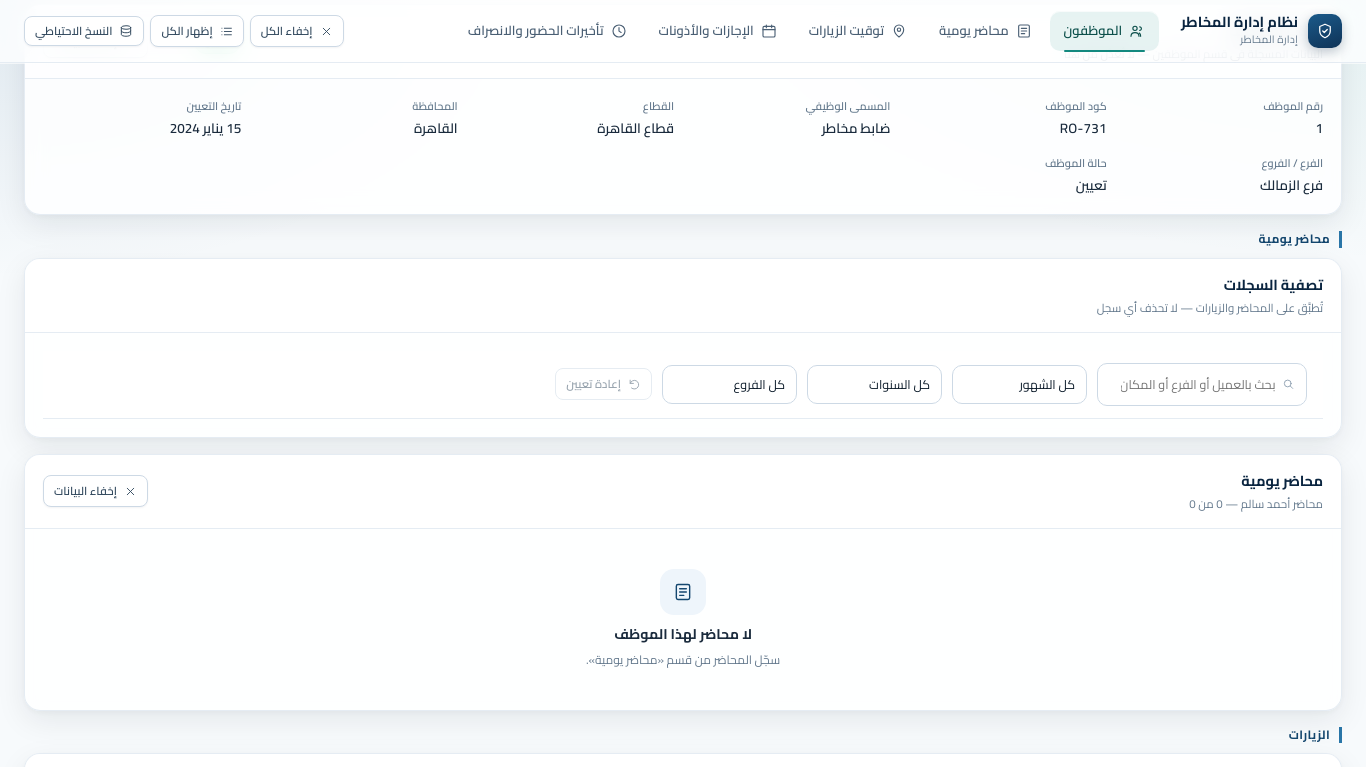
Test case: الفلاتر › ملف الموظف: فلاتر الشهر والسنة والفرع تُطبَّق على سجلاته فقط
(page scrolled)
Select "أبريل" in the dropdown named "الشهر" at (1020, 384), box [952,365,1087,404]
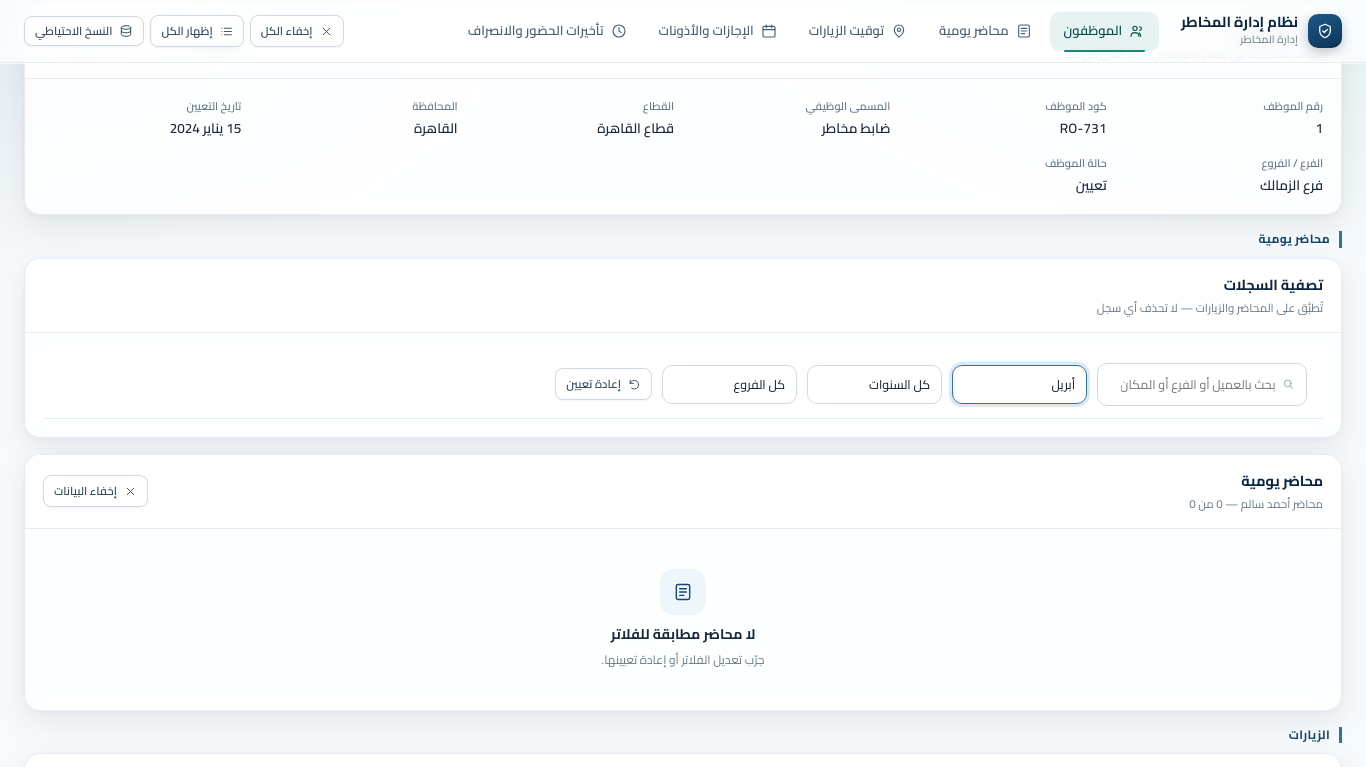
Expected: the text "عميل مارس" is not shown
Select "فرع المعادي" in the dropdown named "الفرع" at (730, 384), box [662,365,797,404]
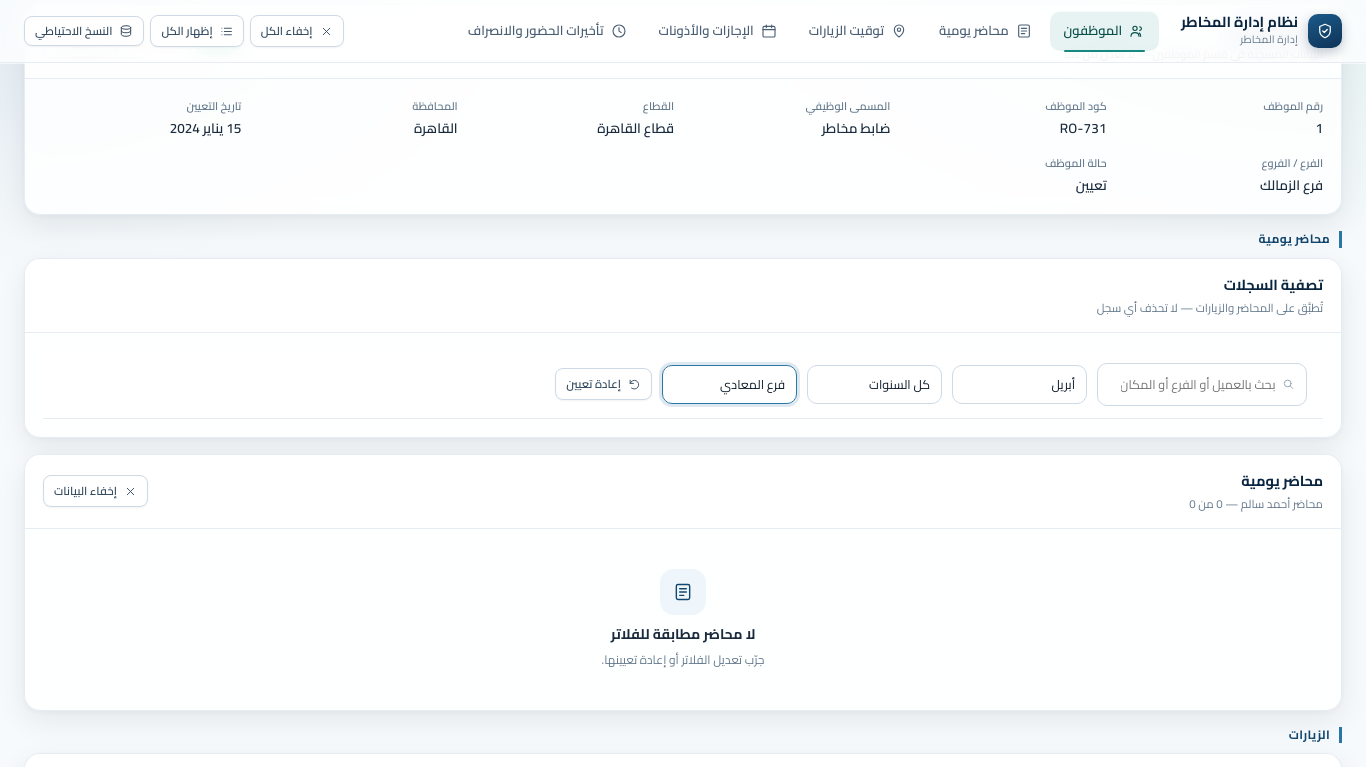
Click the button "إعادة تعيين".
click(604, 384)  # box [555,368,652,400]
(page scrolled)
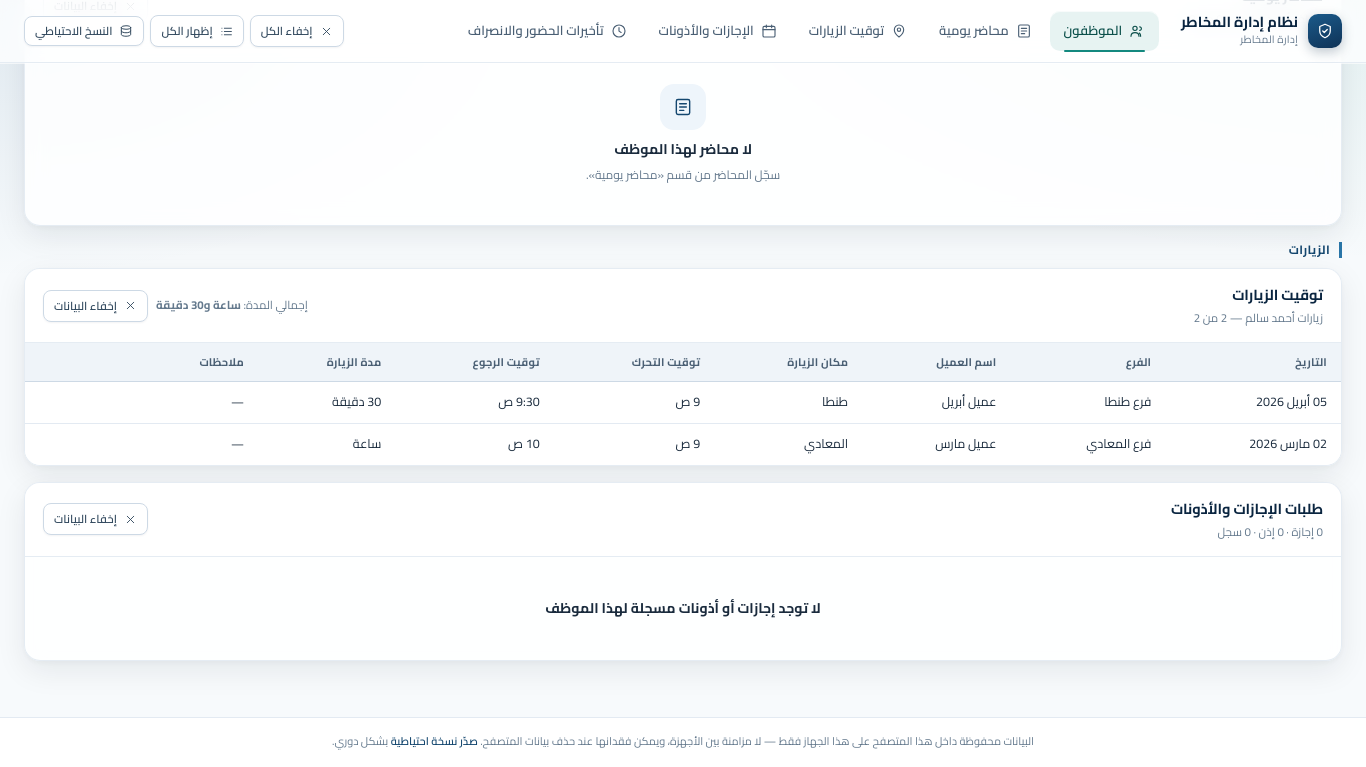
Result: the text "عميل مارس" is shown at [862,424,1010,465]
